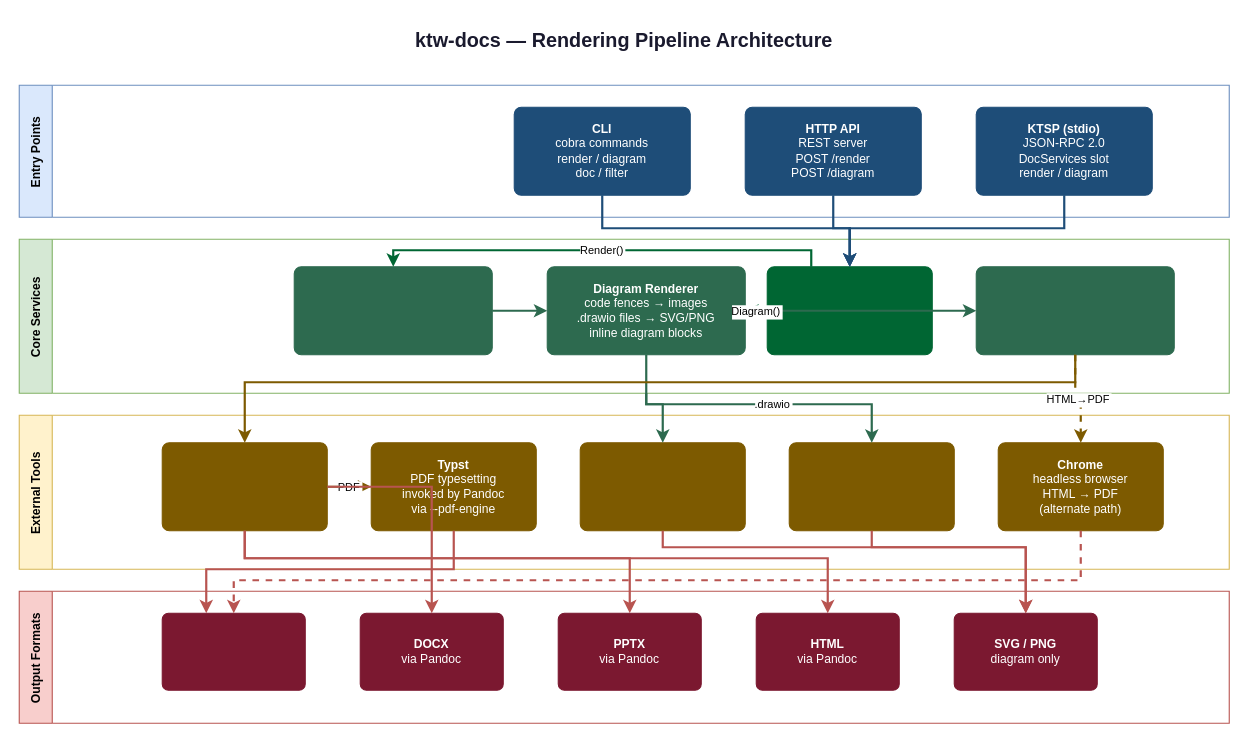
This 1249x743 diagram has some shape labels left out. The shapes that lost their labels are listed below. From the top down, each one's centre as x and y in pixels, then its label:
At point 392,310: "Preprocessor alerts → divs admonitions badges · emoji · ==highlights==".
At point 849,310: "DocServices Go interface Render() Diagram()".
At point 1074,310: "Pandoc Orchestrator builds args + filters selects template invokes pandoc binary".
At point 244,486: "Pandoc universal converter MD → DOCX · HTML MD → Typst → PDF".
At point 662,486: "Kroki API cloud diagram renderer mermaid · plantuml graphviz · d2 · …".
At point 871,486: "draw.io Desktop local renderer .drawio → SVG/PNG Electron headless".
At point 233,651: "PDF via Typst".
